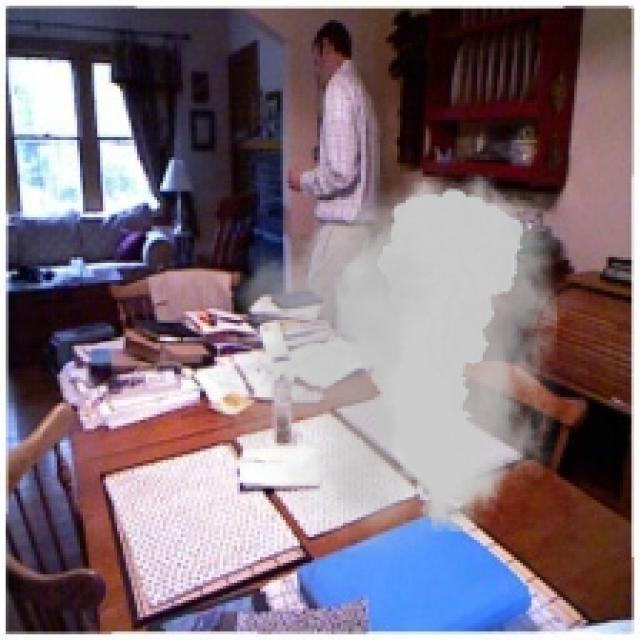Smoke: (194, 162, 589, 558)
